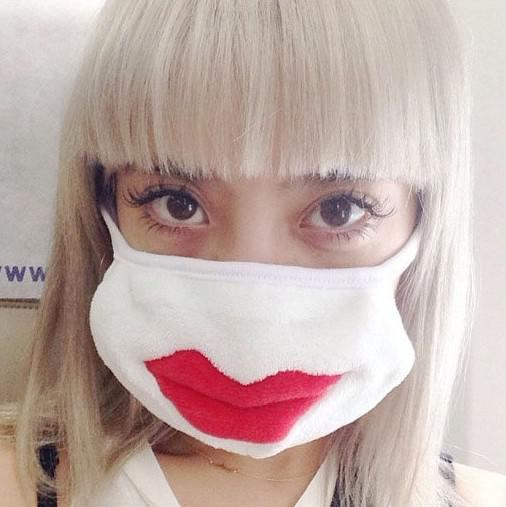OK: (105, 146, 401, 444)
